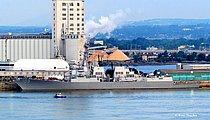MIL_Ship: (12, 43, 199, 91)
